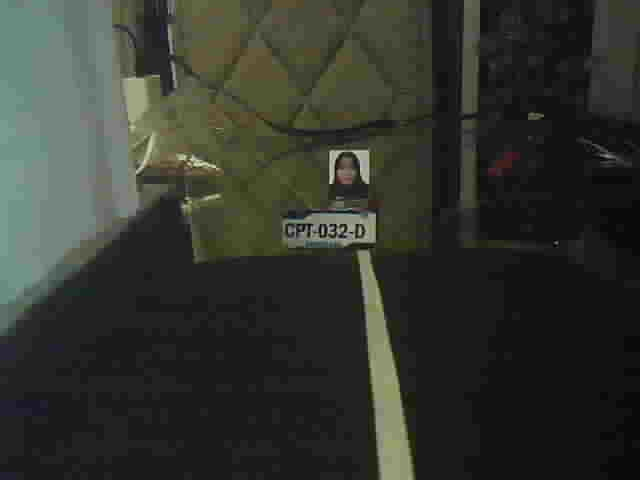PLACA: (278, 208, 379, 249)
ROSTRO: (328, 149, 372, 198)
